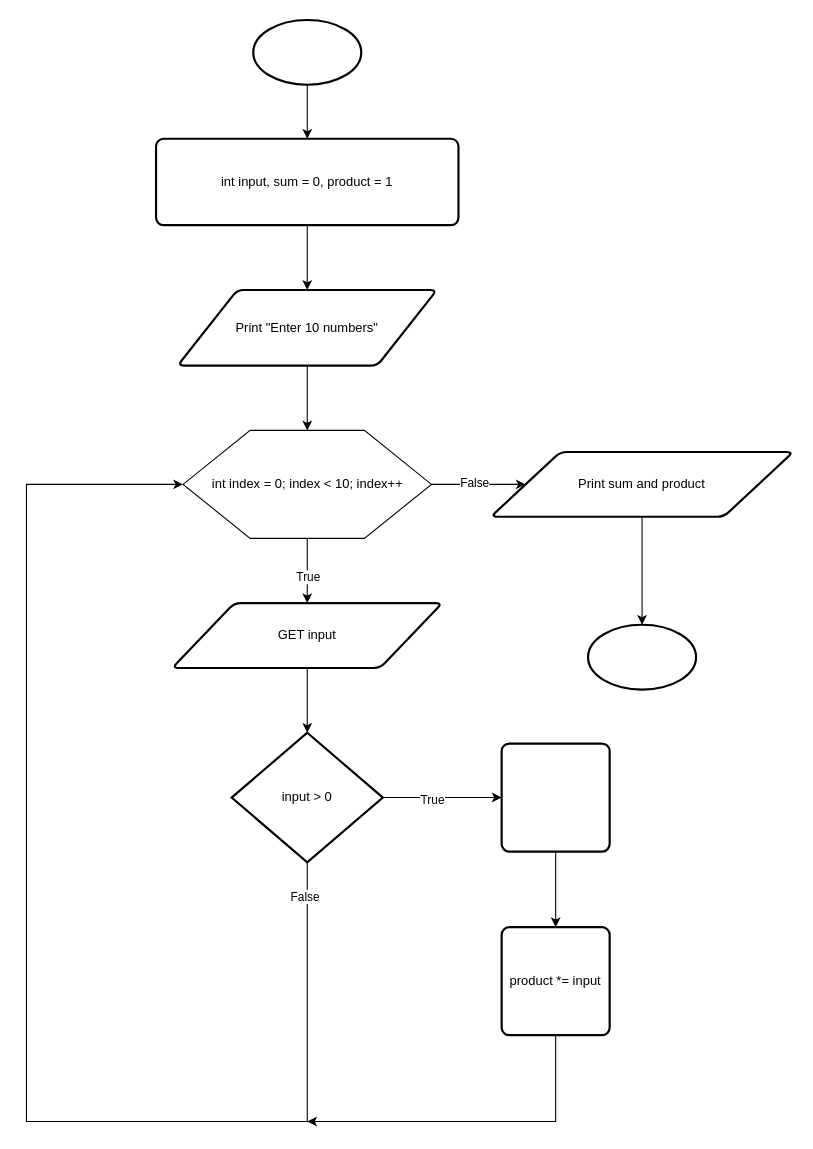
Some shapes in this 813 by 1149 pixel diagram are drawn without their labels. The centre of each missing label's shape, as x and y in pixels:
End: (641,656)
Start: (307,51)
sum += input: (555,797)
